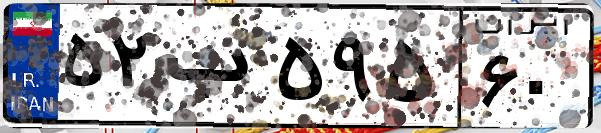0: (525, 38, 570, 115)
2: (110, 28, 158, 98)
5: (270, 28, 330, 110), (385, 28, 445, 110), (57, 26, 110, 100)
6: (475, 38, 525, 113)
9: (330, 28, 385, 110)
ب: (158, 20, 270, 120)
